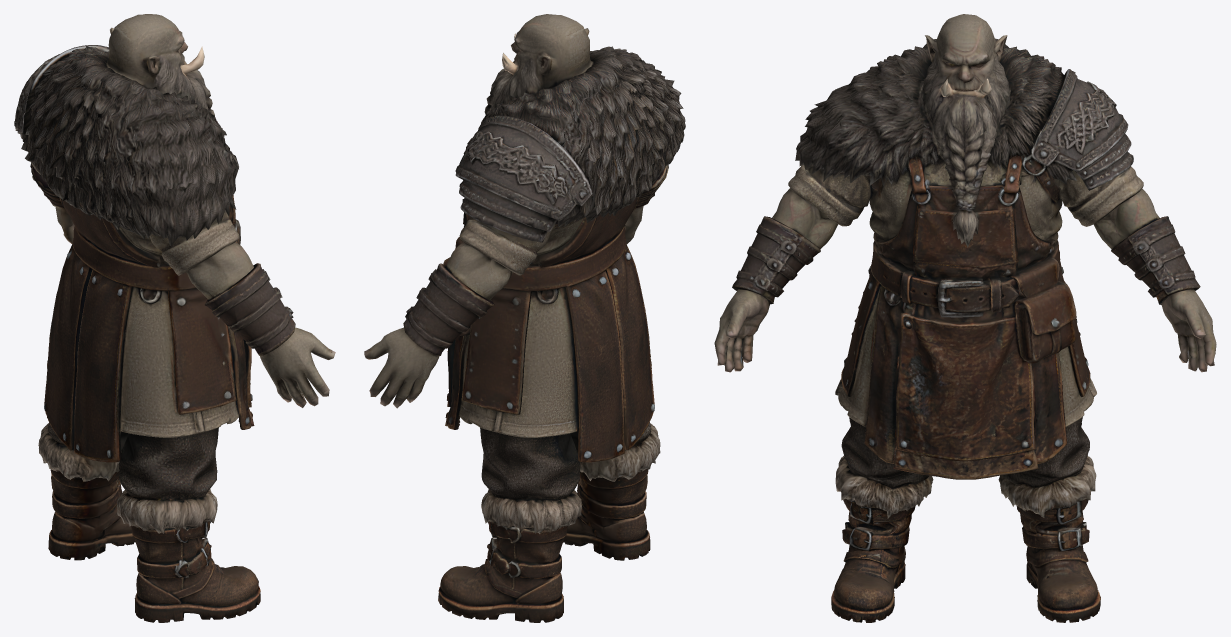
The model's file is kargan_2_tripo.glb.
3 views of the same model, side by side, from view 1: azimuth 30°, elevation 25°; view 2: azimuth 150°, elevation 25°; view 3: azimuth 270°, elevation 25° (orthographic). The views are drawn at different scales.
Parts seen in each view (by area): view 1: tripo_node_f5d7c505-be82-4702-af4e-a78430702e70; view 2: tripo_node_f5d7c505-be82-4702-af4e-a78430702e70; view 3: tripo_node_f5d7c505-be82-4702-af4e-a78430702e70.
Boxes of the visible parts, x1,y1,x2,y2 form: tripo_node_f5d7c505-be82-4702-af4e-a78430702e70: [14, 14, 335, 622]; tripo_node_f5d7c505-be82-4702-af4e-a78430702e70: [364, 14, 685, 622]; tripo_node_f5d7c505-be82-4702-af4e-a78430702e70: [714, 14, 1216, 622].
Bounding box in the file's own units: 0.6441 × 1.9 × 1.5.
1 material, 1 textured.
